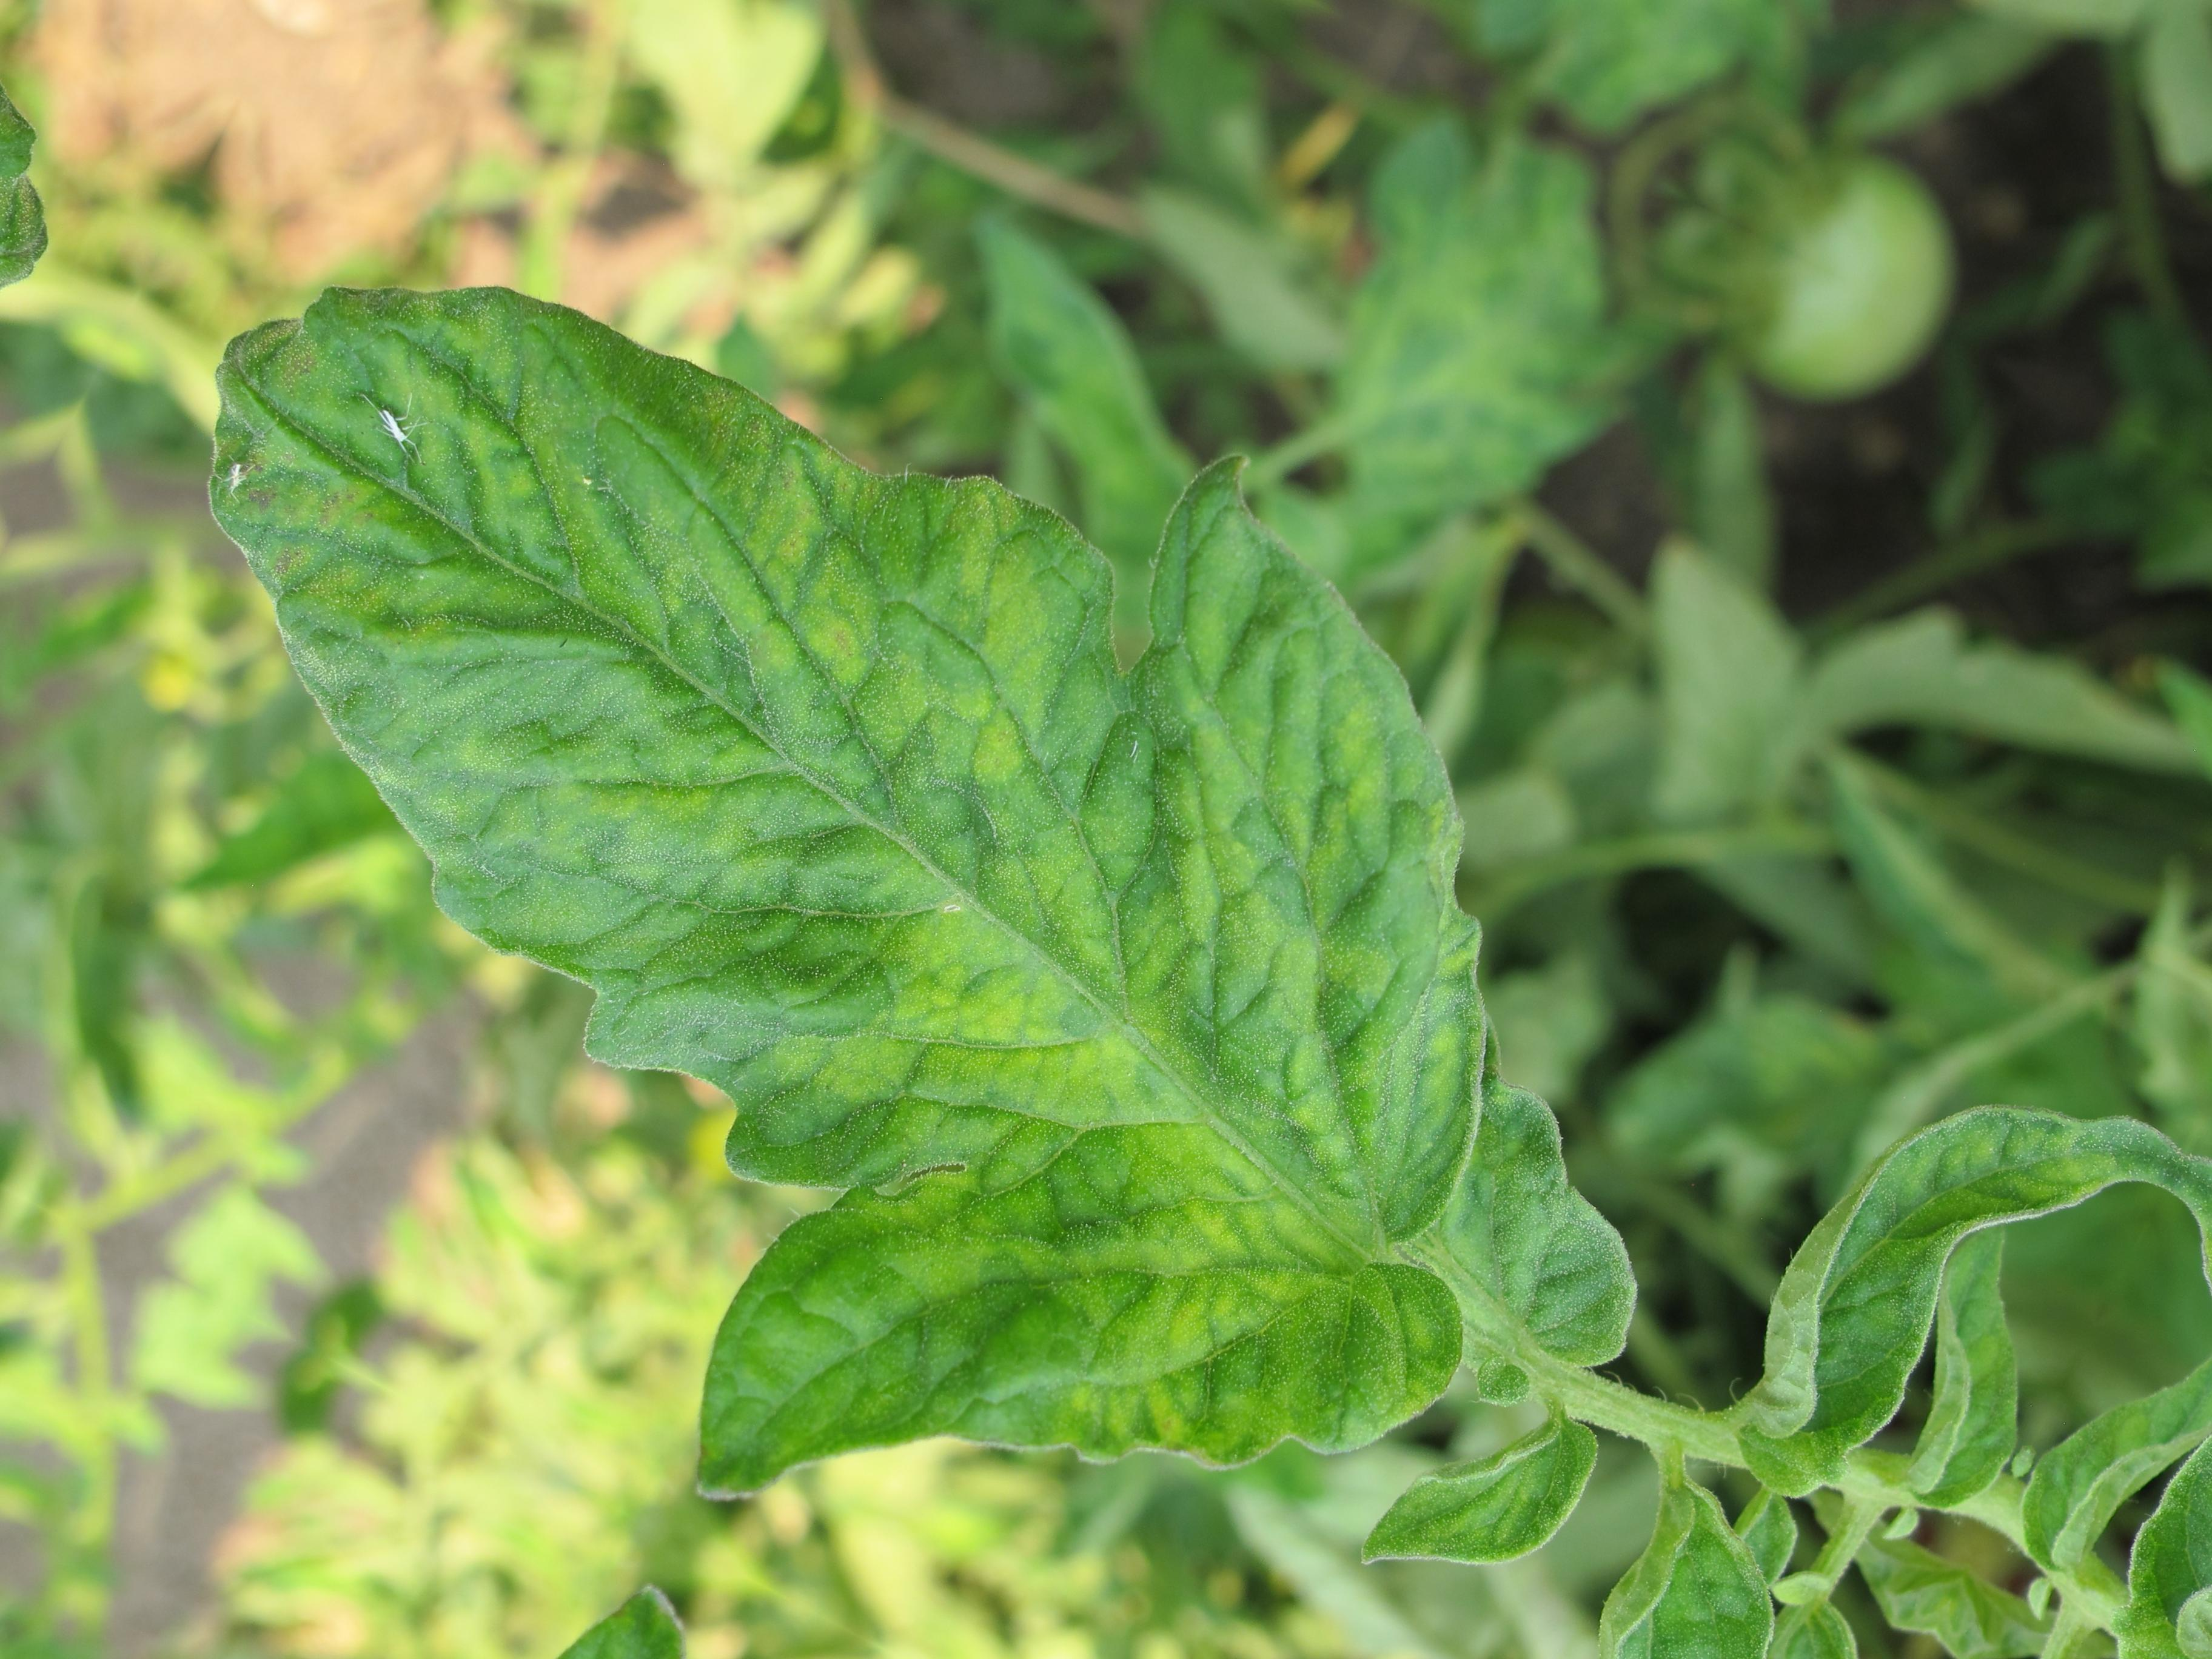Tomato leaf mosaic virus: (0, 0, 1952, 1659)
